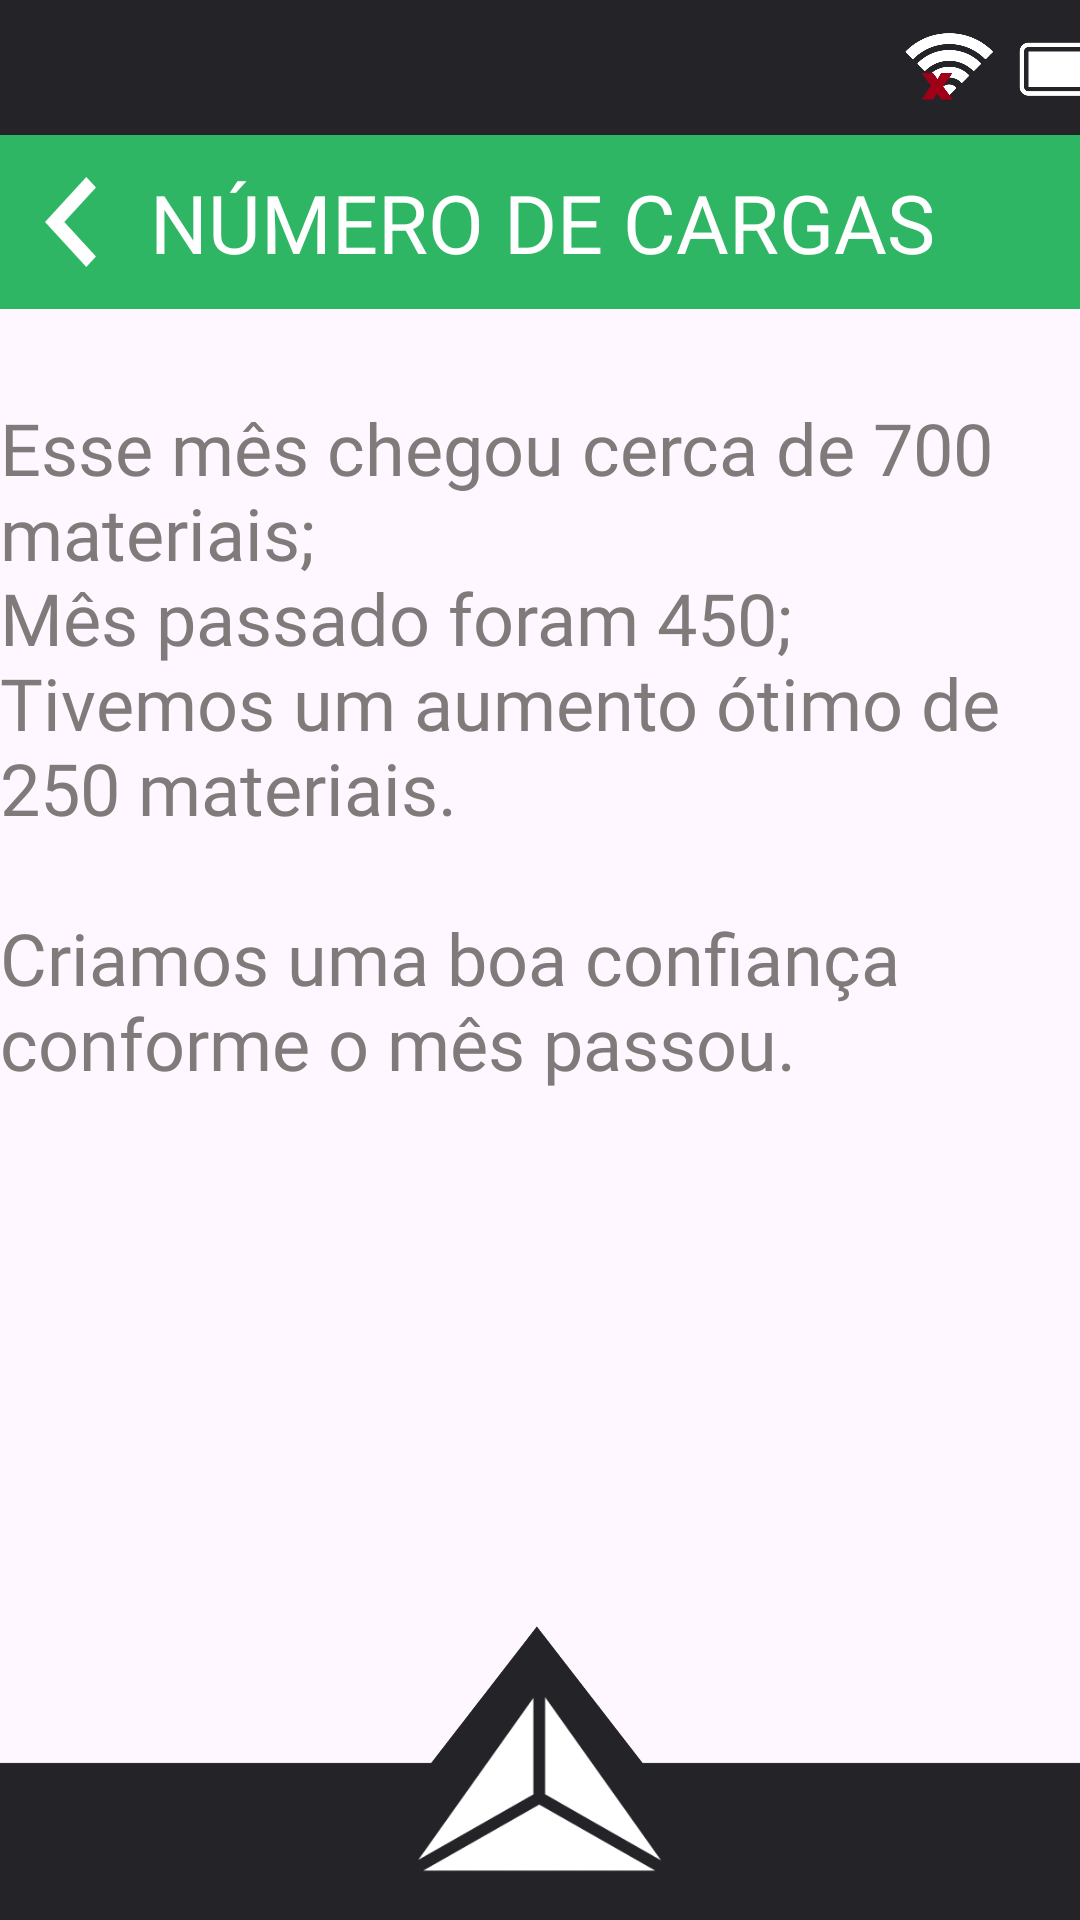

Icons on this 1080px x 1920px Android screen, each with the point to tap as (x=x, y=y):
btnvoltaremail: (x=70, y=222)
